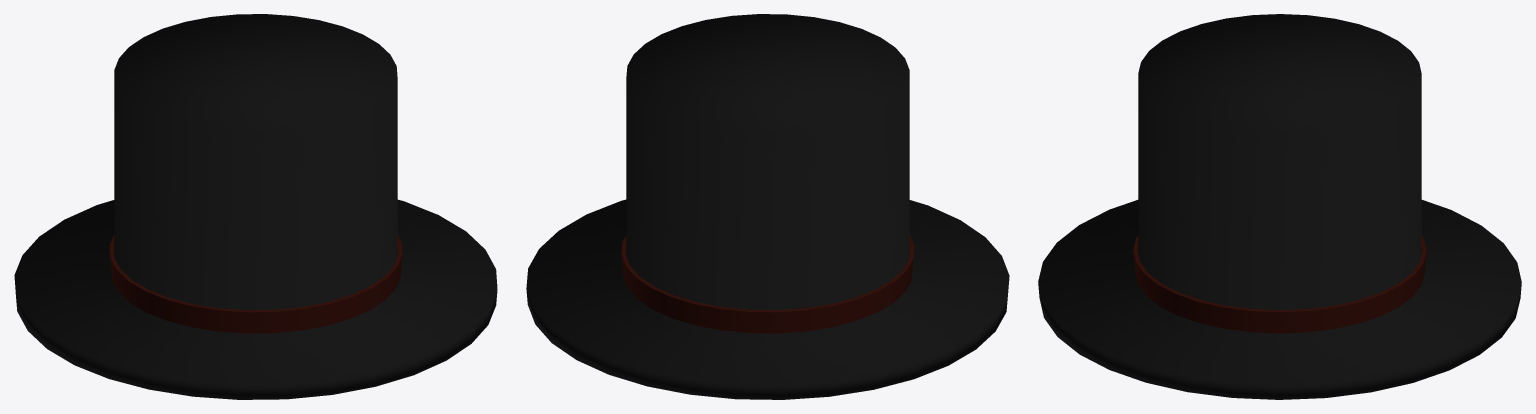
File: Top Hat.fbx
3 renders of one model, left to right at view 1: azimuth 30°, elevation 25°; view 2: azimuth 150°, elevation 25°; view 3: azimuth 270°, elevation 25°, orthographic.
Parts seen in each view (by area): view 1: Hat, Ribbon Hat; view 2: Hat, Ribbon Hat; view 3: Hat, Ribbon Hat.
Boxes of the visible parts, box(x1,y1,x2,y2) form: Hat: box(14, 14, 497, 399); Ribbon Hat: box(109, 234, 402, 333); Hat: box(526, 14, 1009, 399); Ribbon Hat: box(621, 234, 914, 333); Hat: box(1038, 14, 1521, 399); Ribbon Hat: box(1133, 235, 1426, 333).
Size of the model in its own units: 530 by 271 by 530.
